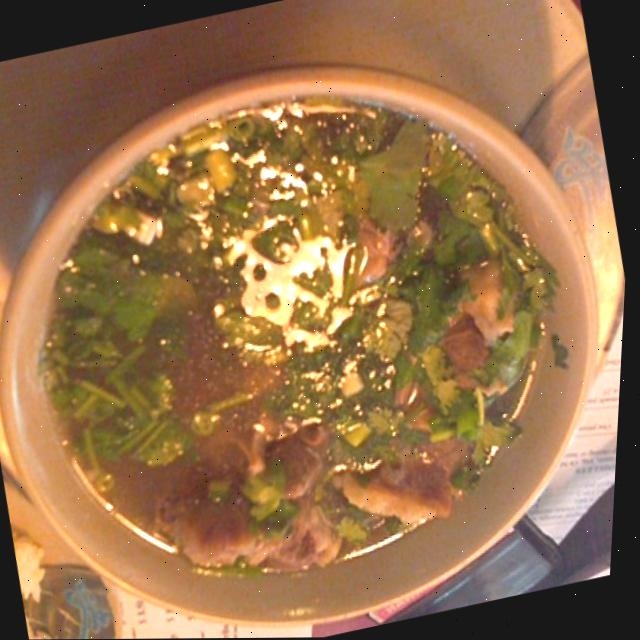汤锅炖物: (0, 9, 639, 640)
